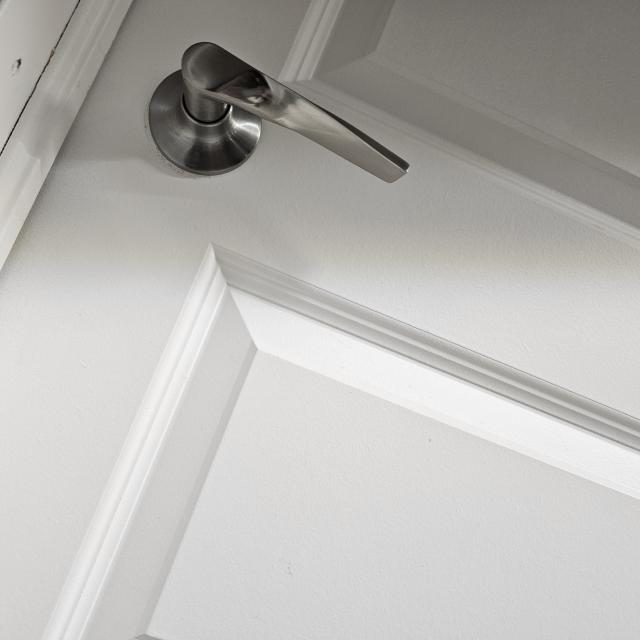door-handle: (149, 42, 409, 182)
